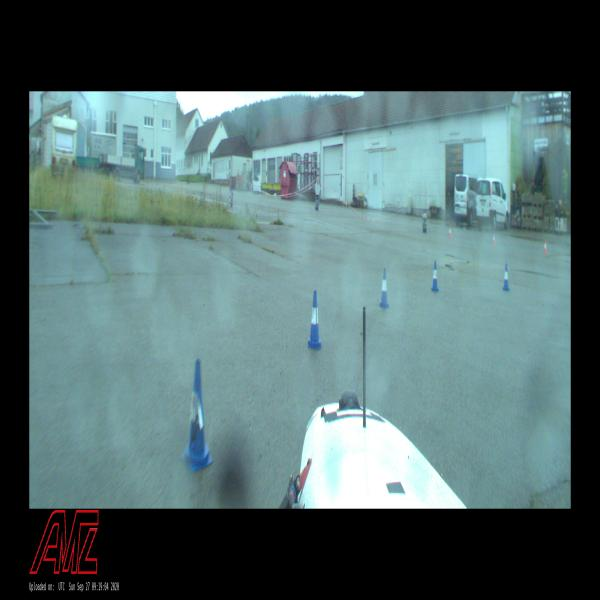blue_cone: (185, 359, 209, 467), (308, 291, 322, 349), (380, 268, 389, 307), (432, 261, 439, 291), (503, 264, 509, 290)
orange_cone: (544, 241, 547, 254), (493, 235, 495, 246), (449, 228, 451, 238)
